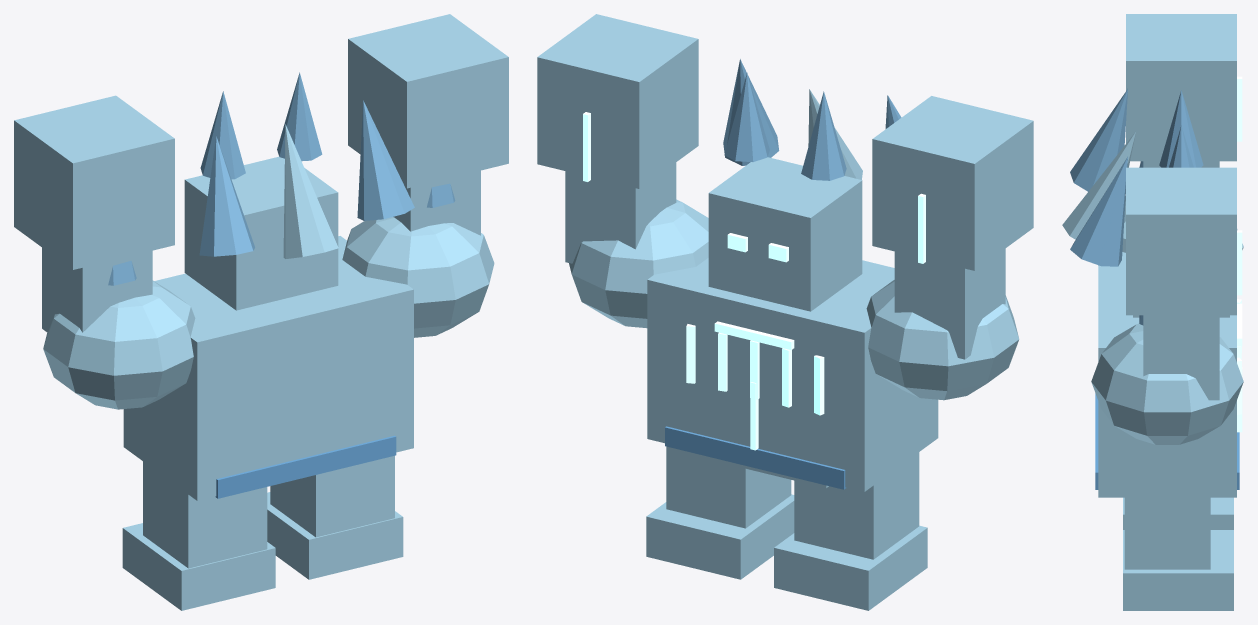
The model's file is ice_golem.glb.
3 views of the same model, side by side, from view 1: azimuth 30°, elevation 25°; view 2: azimuth 150°, elevation 25°; view 3: azimuth 270°, elevation 25° (orthographic). The views are drawn at different scales.
Visible parts, largest first — view 1: ice_golem; view 2: ice_golem; view 3: ice_golem.
Part boxes in pixels (x1,y1,x2,y2): ice_golem: (14, 14, 508, 610); ice_golem: (537, 14, 1033, 610); ice_golem: (1062, 14, 1243, 610).
Size of the model in its own units: 3.42 by 3.6 by 1.31.
